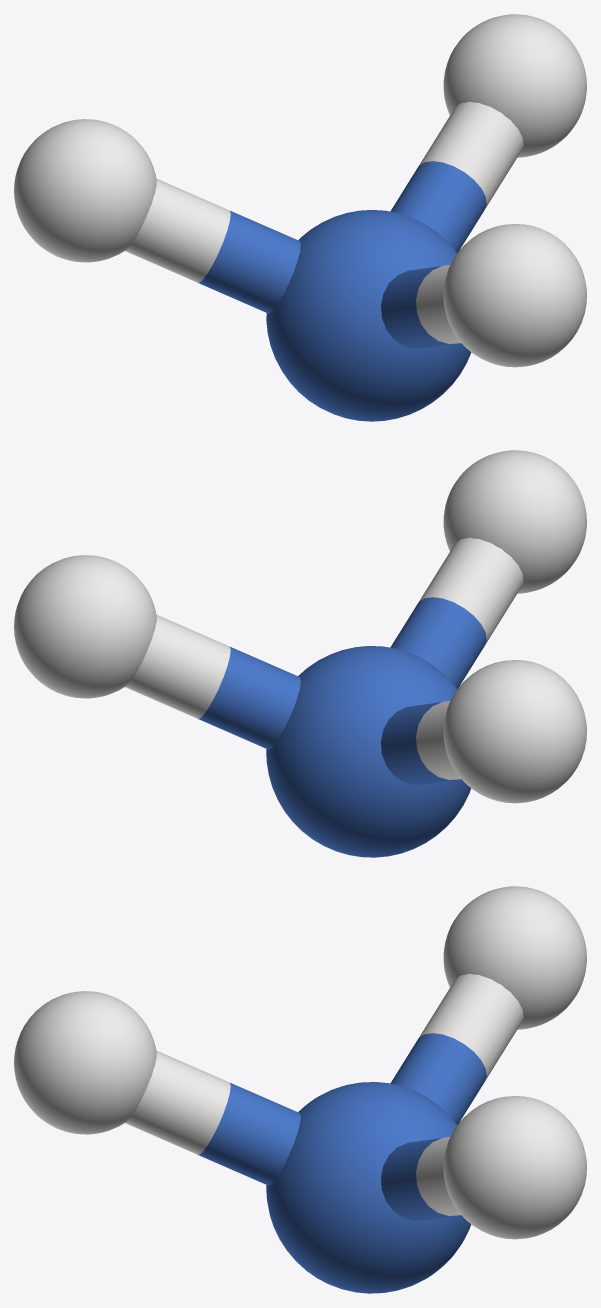
3 renders of one model, top to bottom at view 1: azimuth 30°, elevation 25°; view 2: azimuth 150°, elevation 25°; view 3: azimuth 270°, elevation 25°, orthographic.
Visible parts, largest first — view 1: 对象001; view 2: 对象001; view 3: 对象001.
Part boxes in pixels (x1,y1,x2,y2): 对象001: (14,14,586,421); 对象001: (14,450,586,857); 对象001: (14,886,586,1293).
Size of the model in its own units: 24.14 by 11.9 by 21.64.
